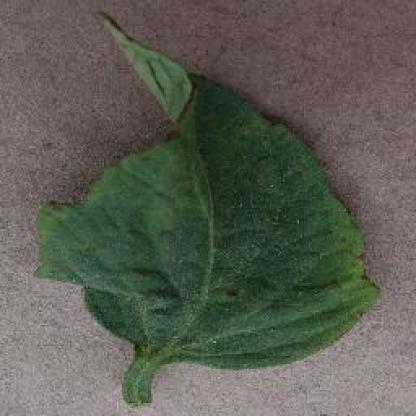good leaf: (83, 25, 375, 374)
